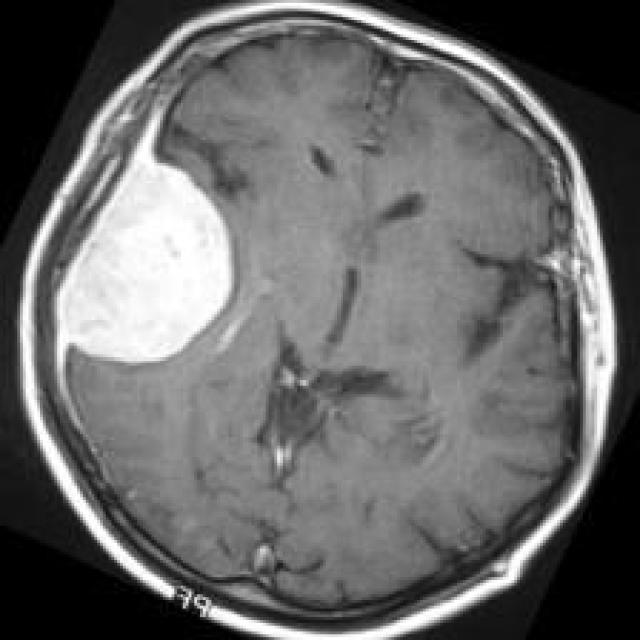Tumor: (57, 151, 234, 364)
